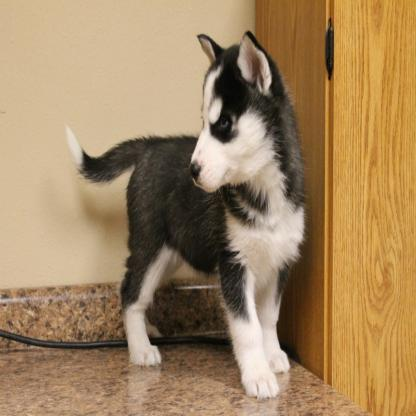husky: (67, 29, 306, 398)
